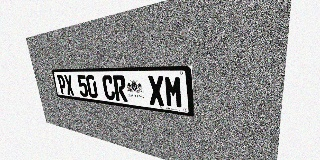0: (85, 75, 98, 98)
5: (77, 75, 89, 97)
C: (102, 75, 116, 100)
M: (164, 76, 184, 109)
P: (57, 75, 67, 95)
R: (113, 75, 128, 102)
X: (147, 76, 165, 106), (64, 75, 75, 96)
